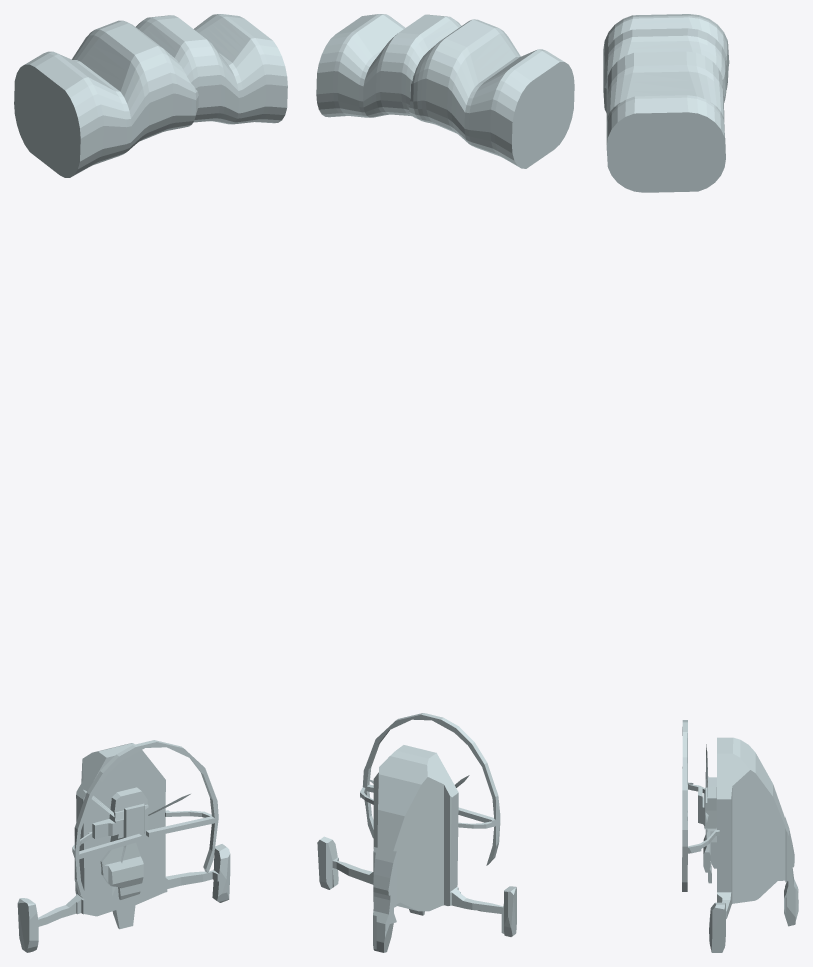
Rendered from PARA.glb.
3 renders of one model, left to right at view 1: azimuth 30°, elevation 25°; view 2: azimuth 150°, elevation 25°; view 3: azimuth 270°, elevation 25°, orthographic. The views are drawn at different scales.
Visible parts, largest first — view 1: Aircraft visual hull; view 2: Aircraft visual hull; view 3: Aircraft visual hull.
Part boxes in pixels (x1=…): Aircraft visual hull: x1=14, y1=14, x2=287, y2=952; Aircraft visual hull: x1=316, y1=14, x2=574, y2=952; Aircraft visual hull: x1=603, y1=14, x2=798, y2=952.
Bounding box in the file's own units: 7.2 × 30.68 × 6.16.
